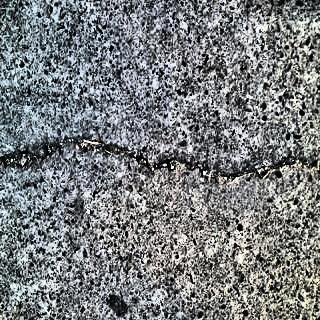crack: (8, 140, 317, 190)
